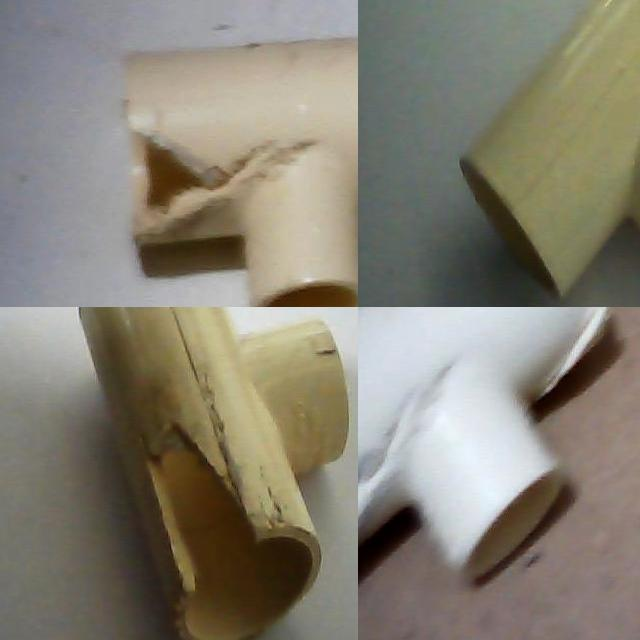Defective: (119, 88, 298, 248), (147, 412, 266, 568), (517, 308, 621, 417)
T Joint: (77, 307, 352, 640), (358, 307, 607, 587), (123, 39, 358, 307)
